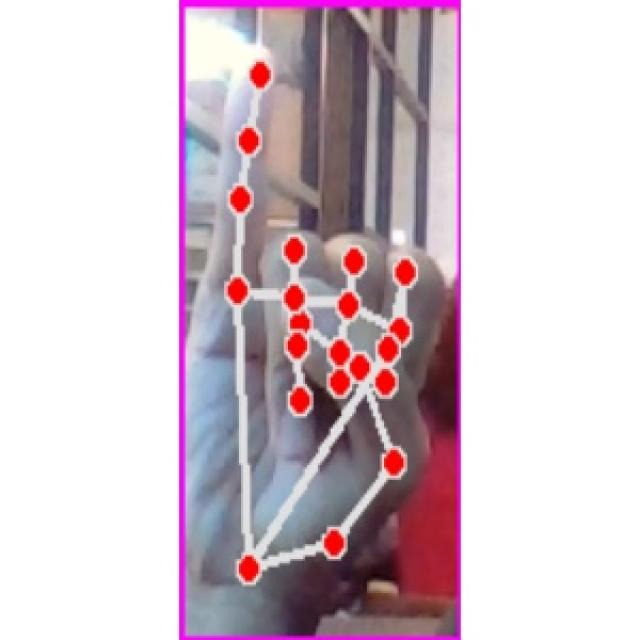I: (191, 38, 447, 615)
